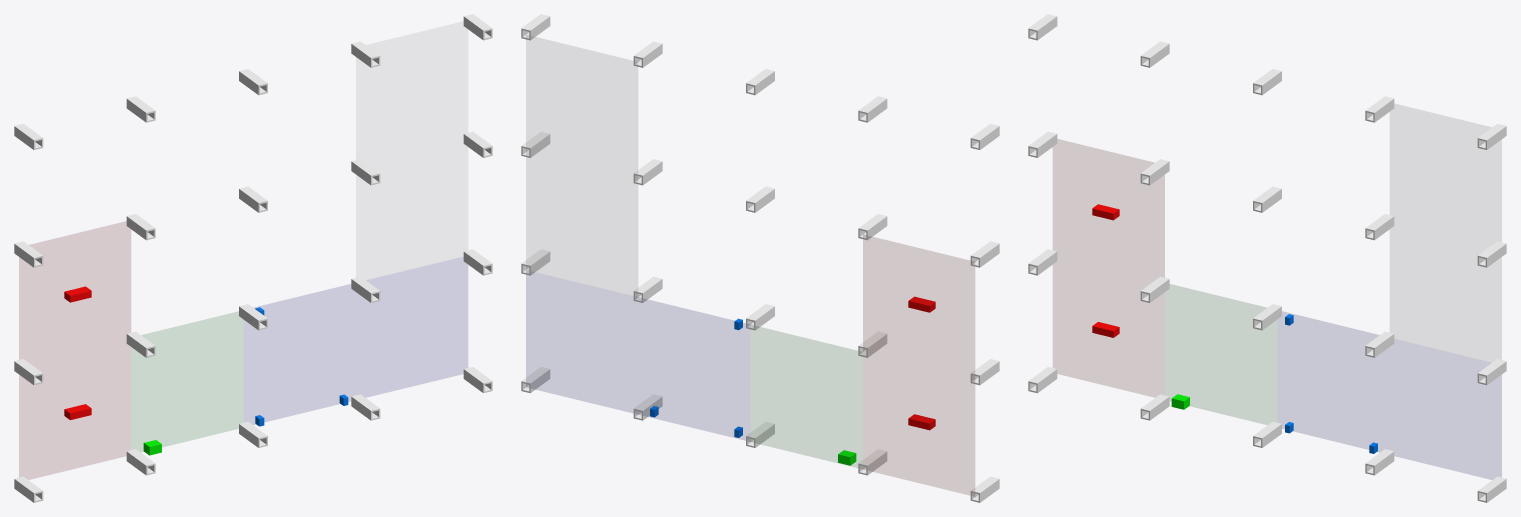
The model's file is anchor_plant_world.dae.
The picture shows the model from 3 angles, left to right: view 1: azimuth 30°, elevation 25°; view 2: azimuth 150°, elevation 25°; view 3: azimuth 330°, elevation 25°; orthographic projection.
Visible parts, largest first — view 1: node_3, node_2, node_0, node_1; view 2: node_3, node_2, node_0, node_1; view 3: node_3, node_2, node_0, node_1.
Part boxes in pixels (bbox=[...]): node_3: bbox=[356, 22, 467, 279]; node_2: bbox=[244, 257, 467, 424]; node_0: bbox=[19, 222, 130, 479]; node_1: bbox=[132, 312, 242, 451]; node_3: bbox=[526, 35, 637, 296]; node_2: bbox=[526, 270, 749, 440]; node_0: bbox=[863, 235, 974, 495]; node_1: bbox=[751, 325, 862, 468]; node_3: bbox=[1390, 104, 1501, 361]; node_2: bbox=[1278, 311, 1501, 479]; node_0: bbox=[1053, 139, 1164, 396]; node_1: bbox=[1165, 284, 1276, 424].
Bounding box in the file's own units: 49 × 37 × 3.65.
